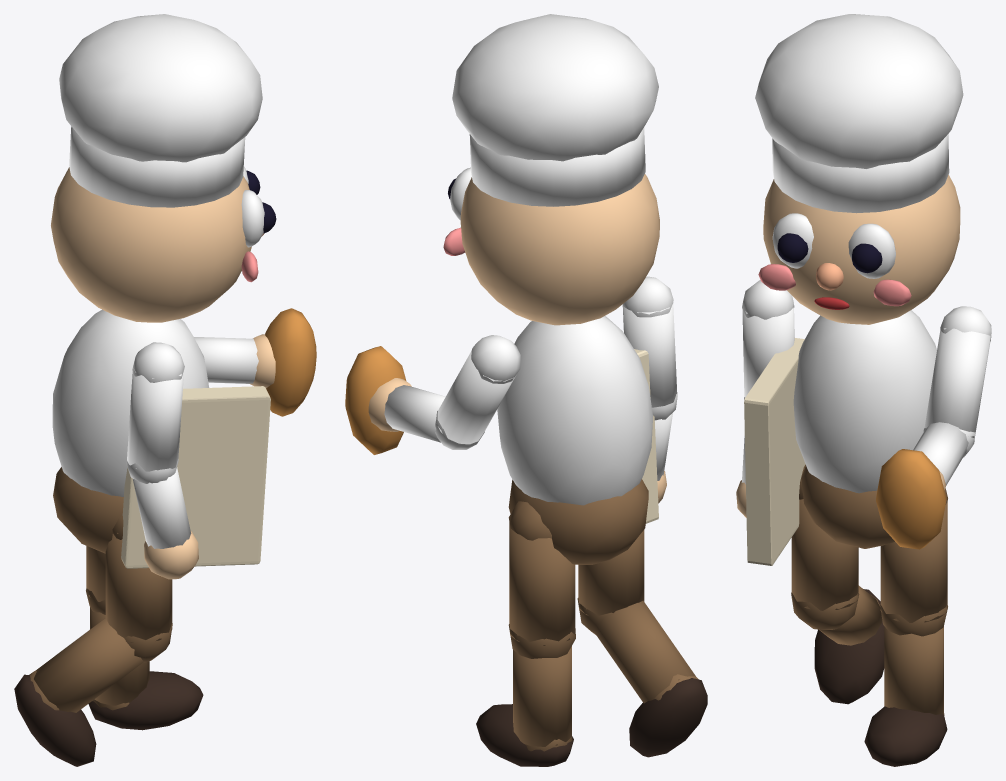
The model's file is pekar_chuze.glb.
3 views of the same model, side by side, from view 1: azimuth 30°, elevation 25°; view 2: azimuth 150°, elevation 25°; view 3: azimuth 270°, elevation 25° (orthographic).
Visible parts, largest first — view 1: Sphere.011, Sphere.002, Cube, Sphere, Cylinder, Cylinder.006, Cylinder.005, Cylinder.001, Sphere.030, Sphere.029, Sphere.024, Sphere.001 (+10 smaller); view 2: Sphere.011, Sphere, Sphere.002, Cylinder, Cylinder.007, Sphere.001, Cylinder.006, Cylinder.008, Sphere.024, Sphere.030, Cylinder.005, Cylinder.003 (+11 smaller); view 3: Sphere.011, Sphere, Sphere.002, Cube, Cylinder, Sphere.030, Cylinder.007, Cylinder.003, Cylinder.005, Cylinder.008, Sphere.001, Sphere.024 (+15 smaller).
Boxes of the visible parts, box(x1,y1,x2,y2) form: Sphere.011: box(59, 14, 262, 162); Sphere.002: box(51, 167, 251, 322); Cube: box(121, 386, 270, 568); Sphere: box(52, 309, 209, 496); Cylinder: box(69, 126, 245, 207); Cylinder.006: box(31, 618, 143, 712); Cylinder.005: box(105, 533, 172, 642); Cylinder.001: box(127, 367, 183, 471); Sphere.030: box(265, 308, 316, 416); Sphere.029: box(88, 671, 203, 730); Sphere.024: box(14, 674, 96, 766); Sphere.001: box(53, 467, 123, 553); Sphere.011: box(452, 14, 658, 161); Sphere: box(497, 316, 652, 505); Sphere.002: box(460, 174, 659, 325); Cylinder: box(469, 127, 645, 206); Cylinder.007: box(509, 523, 575, 645); Sphere.001: box(508, 479, 648, 564); Cylinder.006: box(594, 600, 695, 703); Cylinder.008: box(513, 646, 571, 746); Sphere.024: box(629, 678, 707, 757); Sphere.030: box(345, 346, 406, 454); Cylinder.005: box(578, 530, 644, 615); Cylinder.003: box(437, 351, 515, 444); Sphere.011: box(755, 14, 963, 168); Sphere: box(793, 310, 936, 493); Sphere.002: box(763, 175, 960, 324); Cube: box(744, 338, 805, 565); Cylinder: box(772, 134, 949, 213); Sphere.030: box(876, 449, 946, 549); Cylinder.007: box(880, 502, 947, 622); Cylinder.003: box(924, 328, 990, 437); Cylinder.005: box(791, 499, 858, 610); Cylinder.008: box(884, 626, 943, 714); Sphere.001: box(801, 466, 894, 548); Sphere.024: box(814, 589, 884, 704).
Size of the model in its own units: 0.6887 by 1.46 by 0.4671.
